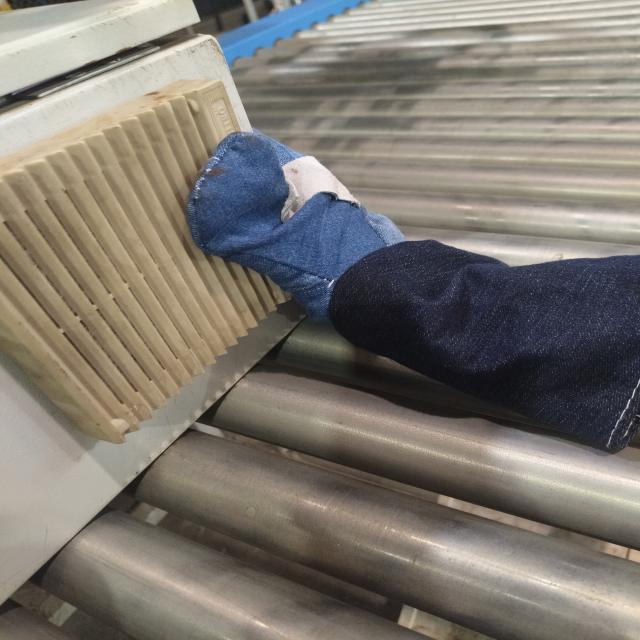Gloves-Detection: (212, 131, 640, 435)
